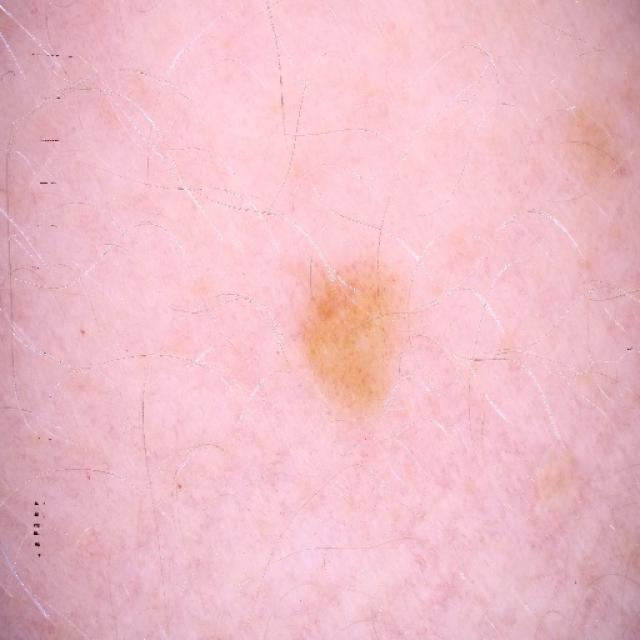Melanoma: (304, 266, 395, 410)
